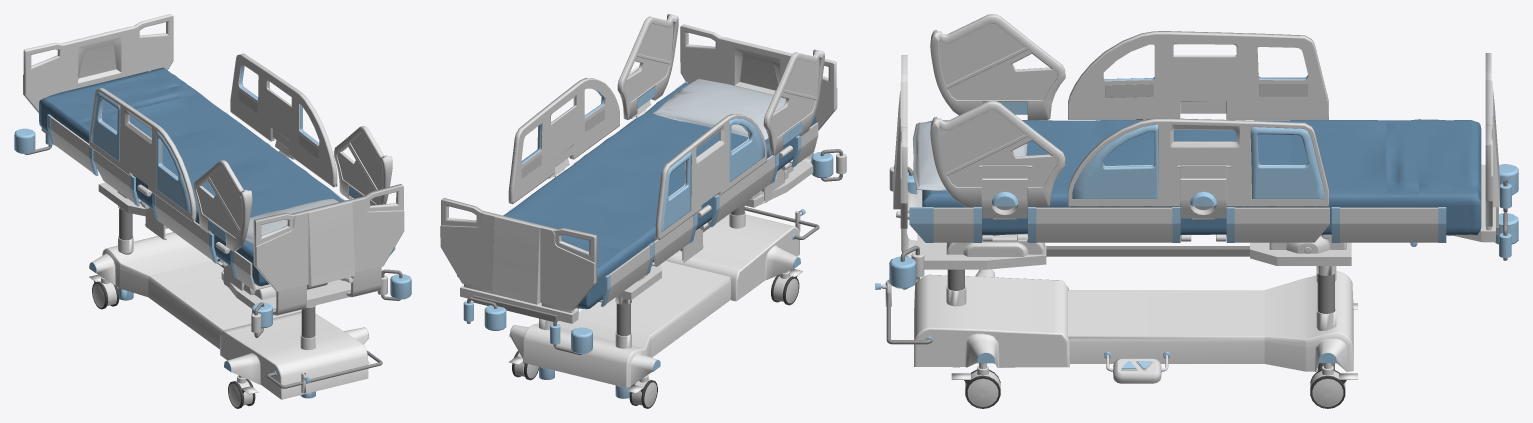
File: bed.fbx
3 views of the same model, side by side, from view 1: azimuth 30°, elevation 25°; view 2: azimuth 150°, elevation 25°; view 3: azimuth 270°, elevation 25° (orthographic). The views are drawn at different scales.
Parts seen in each view (by area): view 1: Hospital_bed_base001; view 2: Hospital_bed_base001; view 3: Hospital_bed_base001.
Part boxes in pixels (bbox=[...]): Hospital_bed_base001: bbox=[14, 14, 411, 408]; Hospital_bed_base001: bbox=[440, 14, 846, 408]; Hospital_bed_base001: bbox=[875, 14, 1518, 408].
Size of the model in its own units: 81.44 by 117 by 218.
